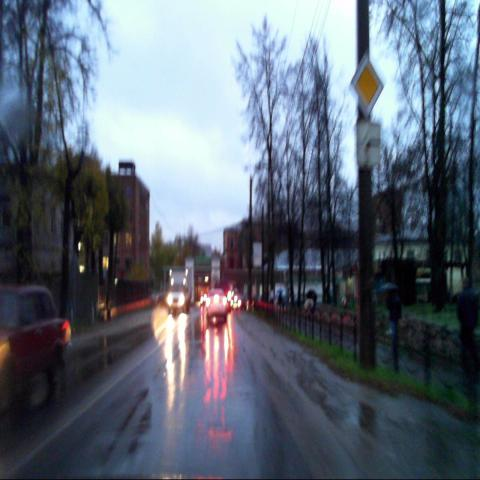8_13: (356, 123, 380, 166)
